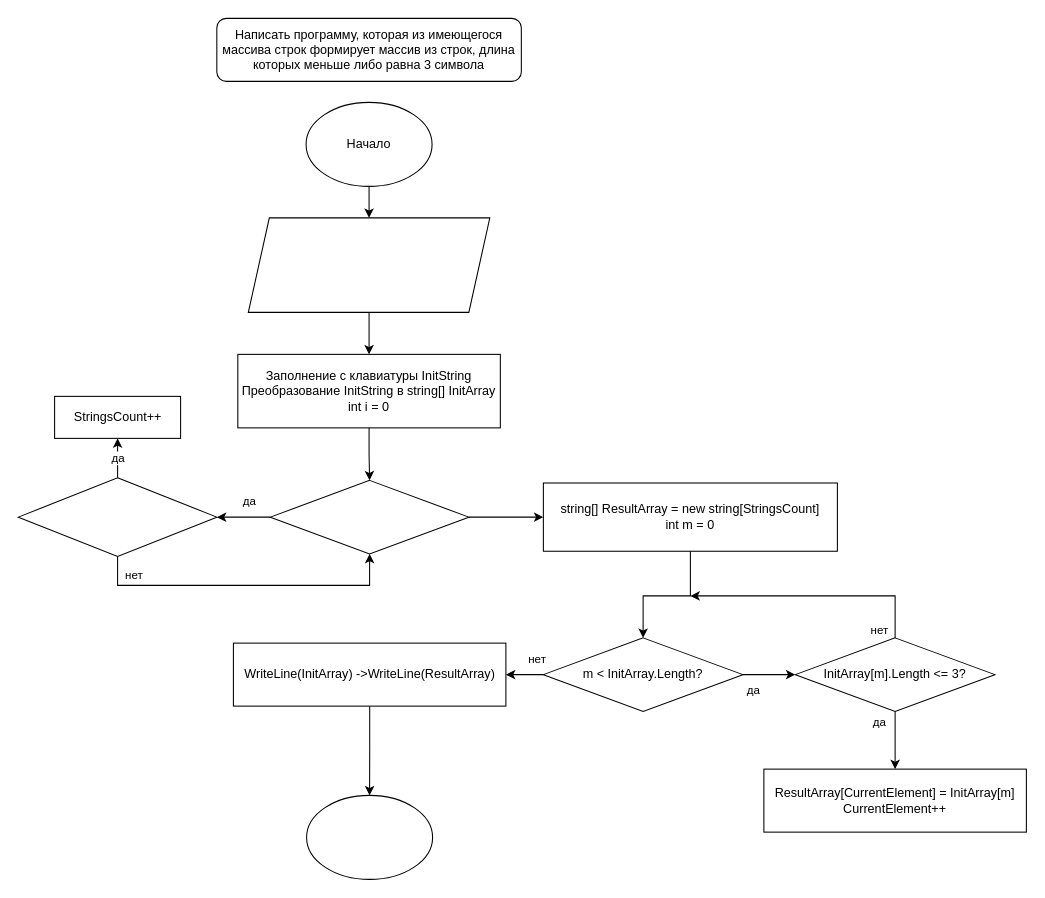
The diagram is 1045 pixels wide and 898 high, and some of its shapes have lost their labels. The centre of each missing label's shape, as x and y in pixels:
"i < InitArray.Length?" belongs at point 369,516.
"InitArray[i].Length <= 3?" belongs at point 117,516.
"string InitString int StringsCount = 0 int CurrentElement = 0" belongs at point 368,264.
"Конец" belongs at point 369,836.
